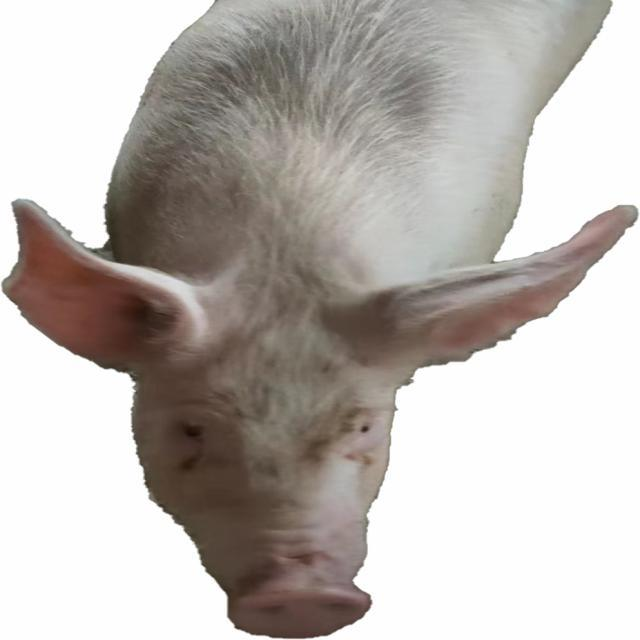pig: (5, 0, 636, 637)
